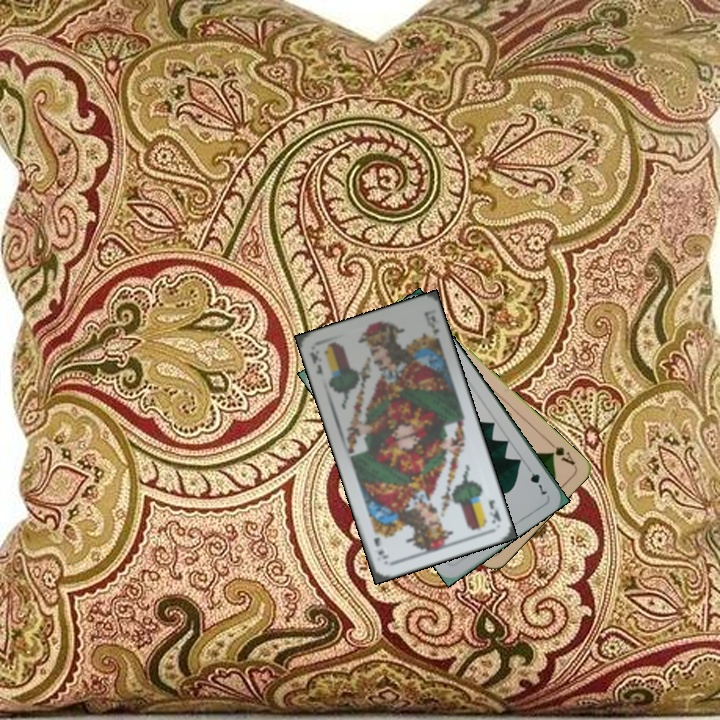EK: (306, 348, 326, 379), (484, 495, 503, 526)
G7: (522, 461, 550, 497)
GA: (544, 437, 578, 468)
